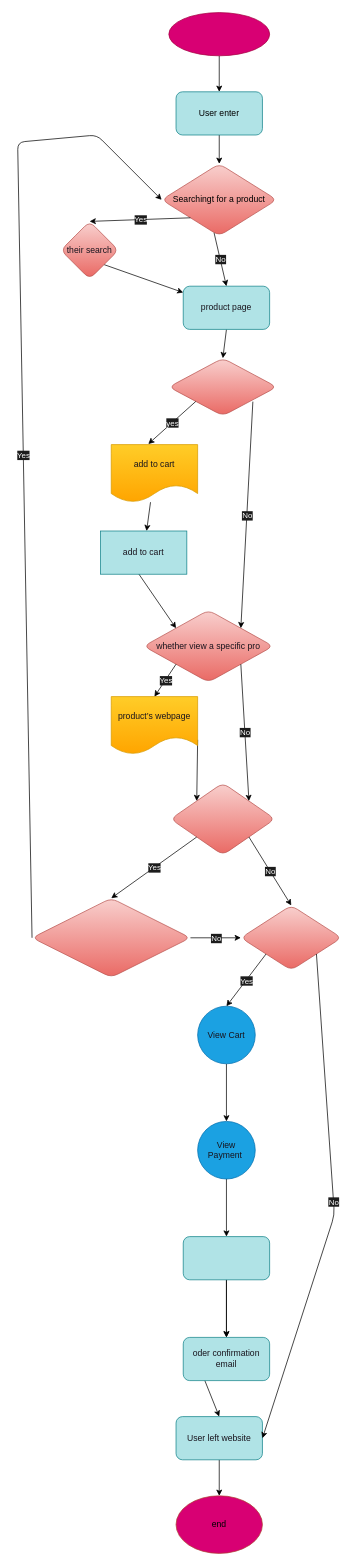
This 354x1566 diagram has some shape labels left out. The shapes that lost their labels are listed below. From the top down, each one's centre as x and y in pixels, then its label:
point (219, 34): Start
point (222, 386): Whether add to cart
point (222, 818): whether to continue shopping
point (110, 937): whether searching for a new product
point (291, 937): Whether Checkout
point (226, 1258): input payment information
